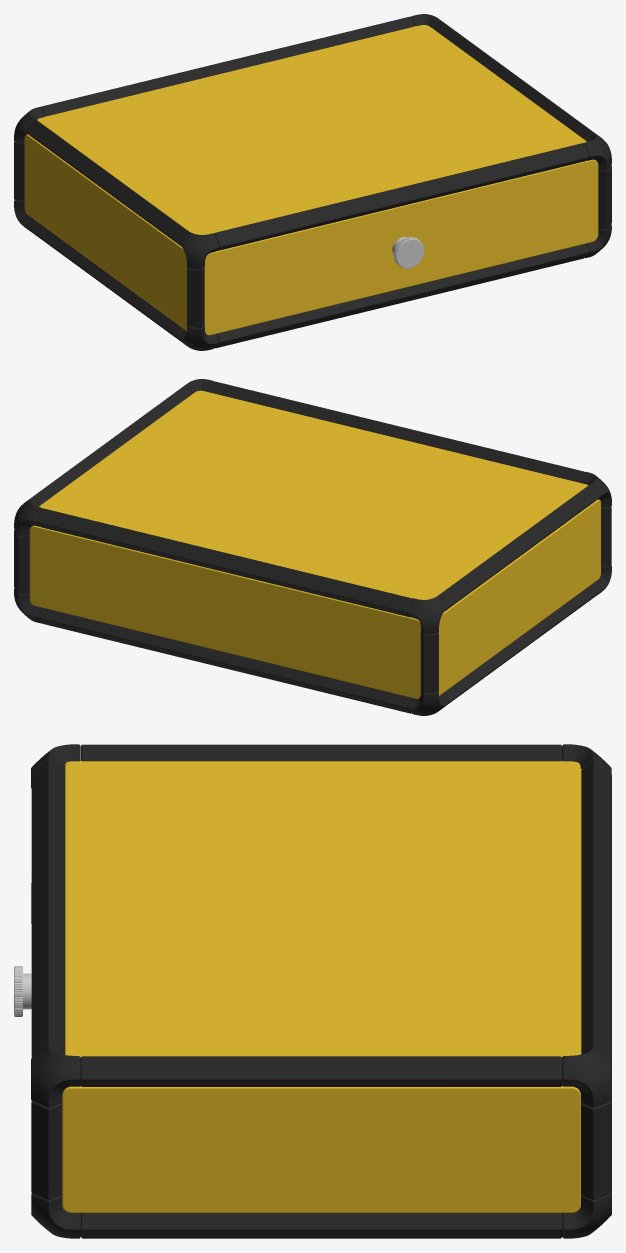
3 views of the same model, one above another, from view 1: azimuth 30°, elevation 25°; view 2: azimuth 150°, elevation 25°; view 3: azimuth 270°, elevation 25° (orthographic). The views are drawn at different scales.
Visible parts, largest first — view 1: 523x374x79; view 2: 523x374x79; view 3: 523x374x79.
Boxes of the visible parts, <box> form: 523x374x79: <box>14,14,611,350</box>; 523x374x79: <box>14,379,611,715</box>; 523x374x79: <box>14,744,611,1238</box>.
Size of the model in its own units: 0.6007 by 0.1566 by 0.4646.
